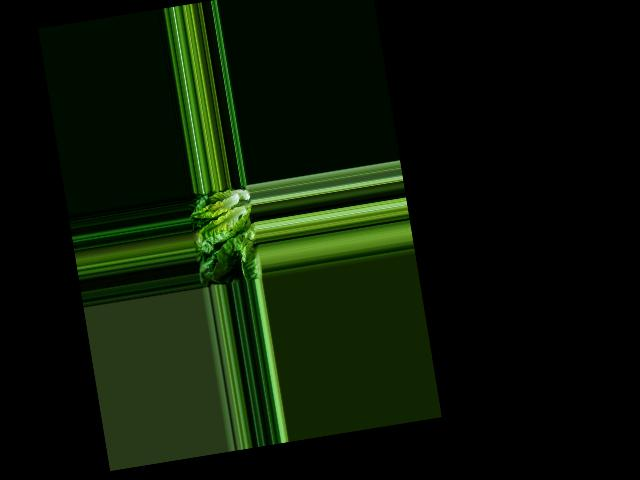lettuce: (190, 186, 259, 255)
